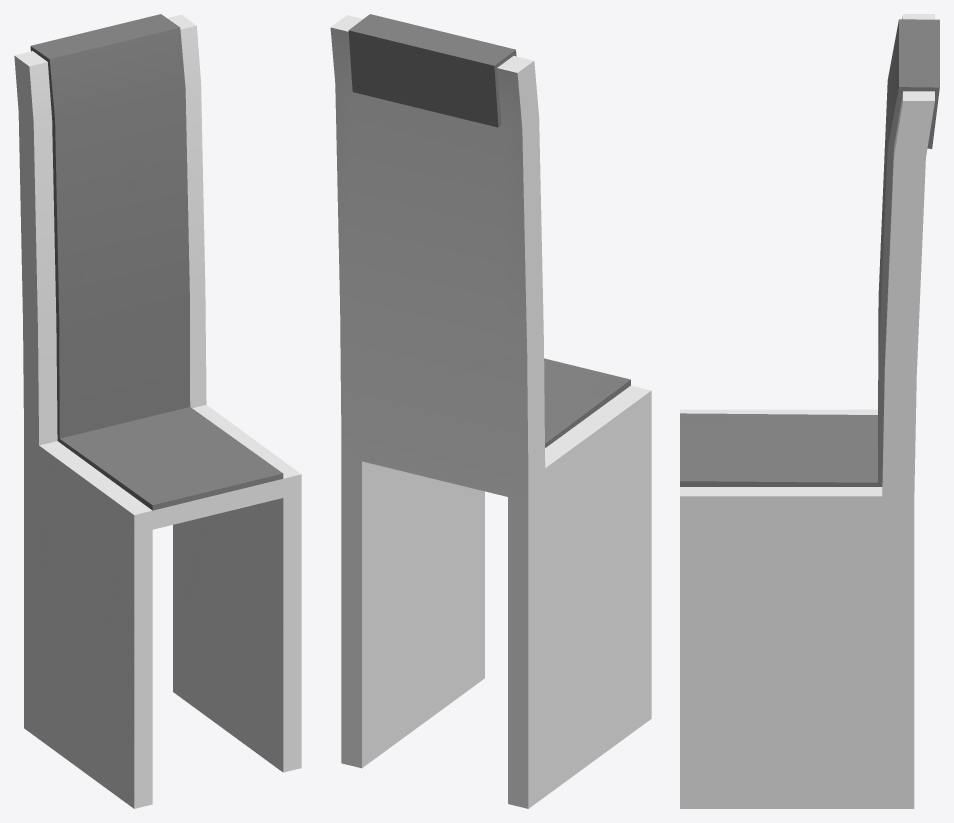
File: TT_SediaA_001.FBX
The picture shows the model from 3 angles, left to right: view 1: azimuth 30°, elevation 25°; view 2: azimuth 150°, elevation 25°; view 3: azimuth 270°, elevation 25°; orthographic projection. The views are drawn at different scales.
Parts seen in each view (by area): view 1: SediaA_001; view 2: SediaA_001; view 3: SediaA_001.
Part boxes in pixels (left/top/right/bottom): SediaA_001: left=14, top=14, right=301, bottom=808; SediaA_001: left=330, top=14, right=651, bottom=808; SediaA_001: left=680, top=14, right=939, bottom=808.
Bounding box in the file's own units: 11.71 × 44.78 × 14.8.
Materials: 1 (1 with a texture image).
